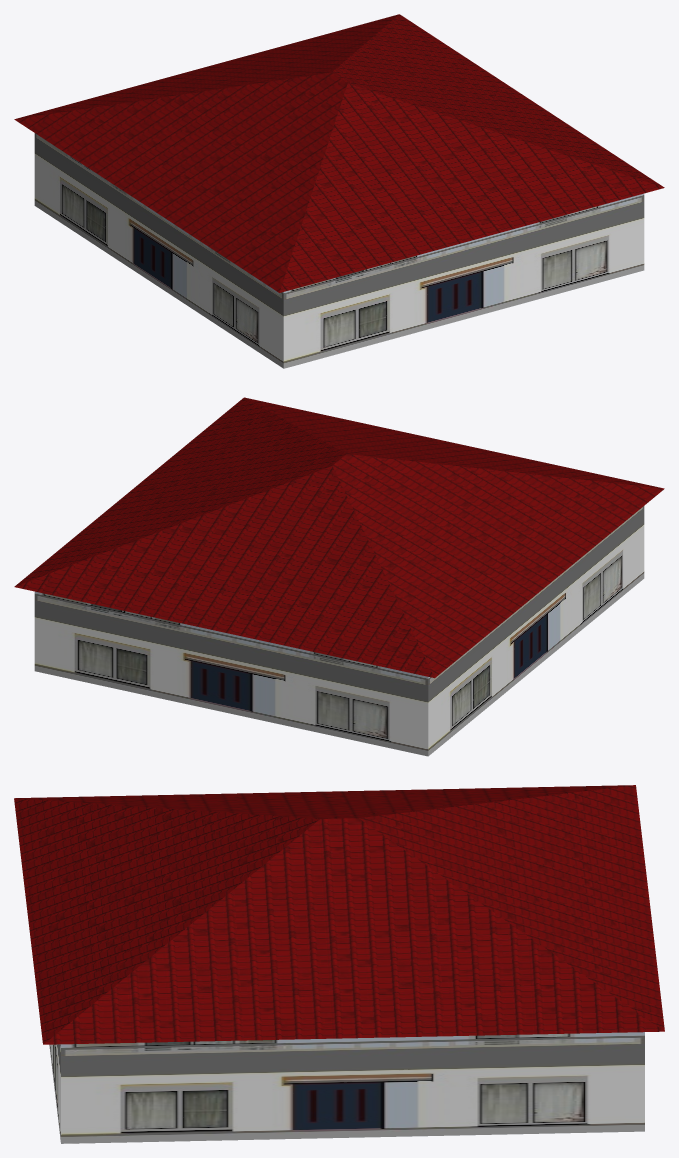
The picture shows the model from 3 angles, top to bottom: view 1: azimuth 30°, elevation 25°; view 2: azimuth 150°, elevation 25°; view 3: azimuth 270°, elevation 25°; orthographic projection. The views are drawn at different scales.
Visible parts, largest first — view 1: CityEngineMaterial_17_m, CityEngineMaterial_7_m; view 2: CityEngineMaterial_17_m, CityEngineMaterial_7_m; view 3: CityEngineMaterial_17_m, CityEngineMaterial_7_m.
Part boxes in pixels (x1=…): CityEngineMaterial_17_m: x1=14, y1=14, x2=664, y2=292; CityEngineMaterial_7_m: x1=34, y1=133, x2=644, y2=368; CityEngineMaterial_17_m: x1=14, y1=397, x2=664, y2=678; CityEngineMaterial_7_m: x1=34, y1=506, x2=644, y2=756; CityEngineMaterial_17_m: x1=14, y1=785, x2=664, y2=1044; CityEngineMaterial_7_m: x1=49, y1=1032, x2=644, y2=1143.
Bounding box in the file's own units: 30.5 × 11.16 × 32.31.
